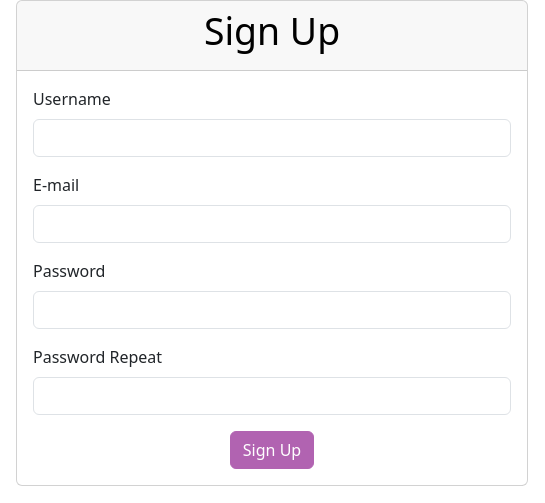
it: Sign Up › when there is an ongoing api call › displays spinner
The width and height of the screenshot is (545, 503).
Type "user1" into the field labelled "Username" at (272, 138), box [33,119,511,157]
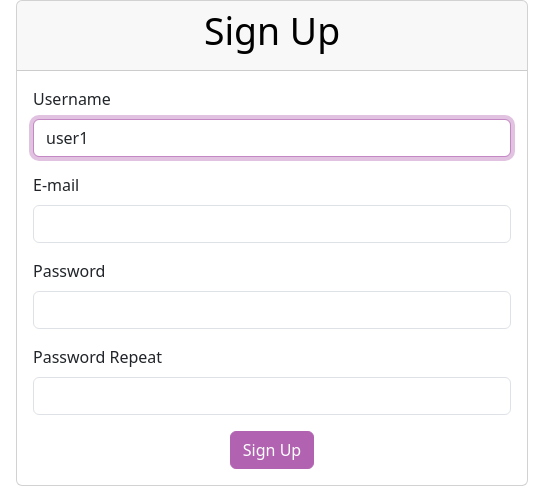
Type "teste@gmail.com" into the field labelled "E-mail" at (272, 224), box [33,205,511,243]
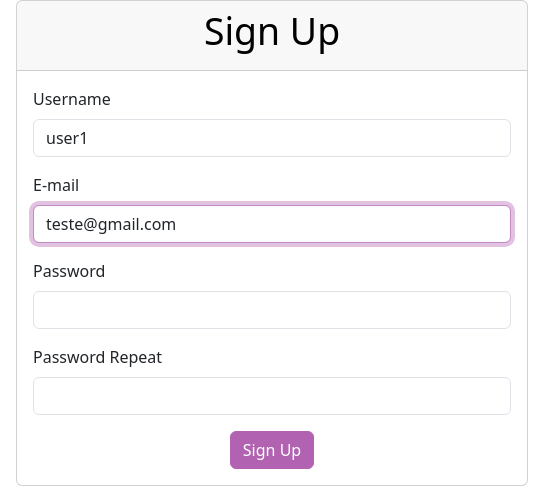
Type "P4ssword" into the password field labelled "Password" at (272, 310), box [33,291,511,329]
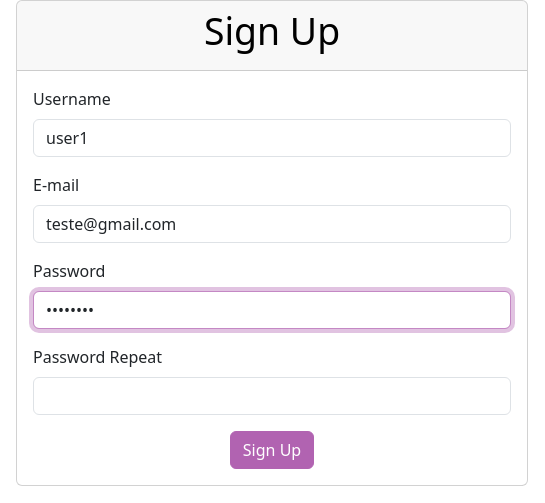
Type "P4ssword" into the password field labelled "Password Repeat" at (272, 396), box [33,377,511,415]
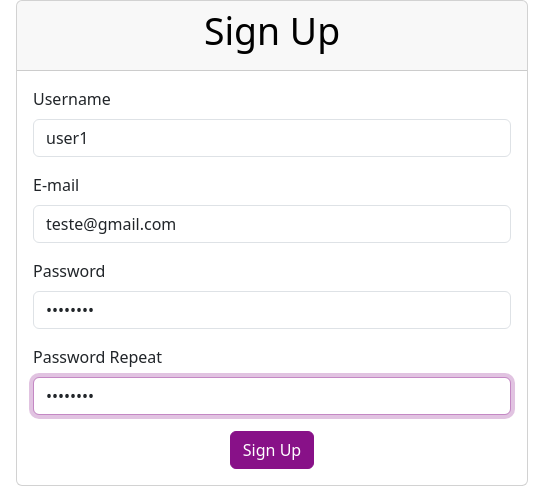
Click the button "Sign Up" at (272, 450), box [230,431,314,469]
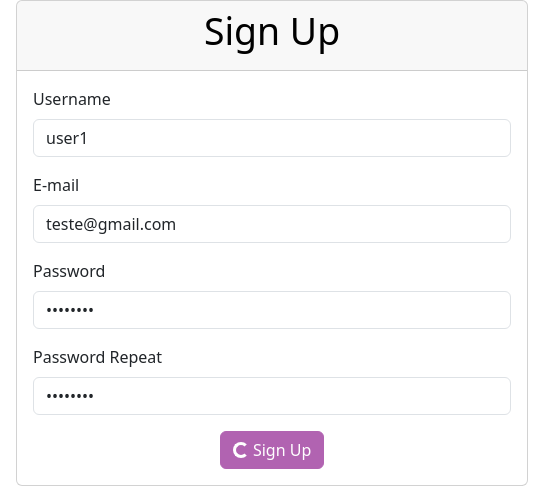
Expected: the message is shown, [233,442,249,458]
